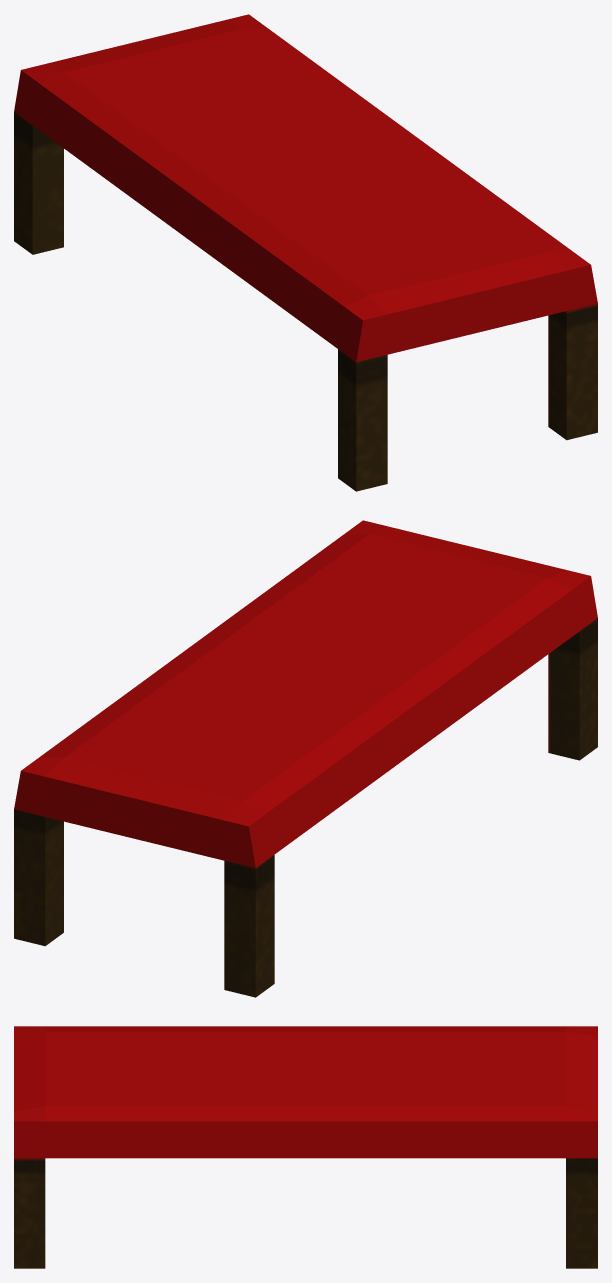
Rendered from Waiting Bench.fbx.
3 renders of one model, top to bottom at view 1: azimuth 30°, elevation 25°; view 2: azimuth 150°, elevation 25°; view 3: azimuth 270°, elevation 25°, orthographic. The views are drawn at different scales.
Visible parts, largest first — view 1: Waiting bench.005; view 2: Waiting bench.005; view 3: Waiting bench.005.
Part boxes in pixels (x1,y1,x2,y2): Waiting bench.005: [14, 14, 597, 491]; Waiting bench.005: [14, 520, 597, 997]; Waiting bench.005: [14, 1026, 597, 1268].
Bounding box in the file's own units: 98.02 × 67.76 × 240.
